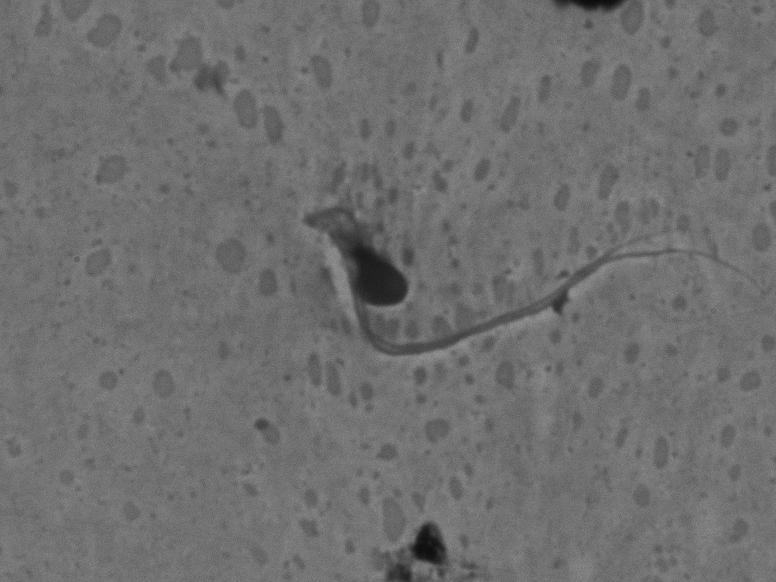Abnormal: (313, 158, 762, 383)
